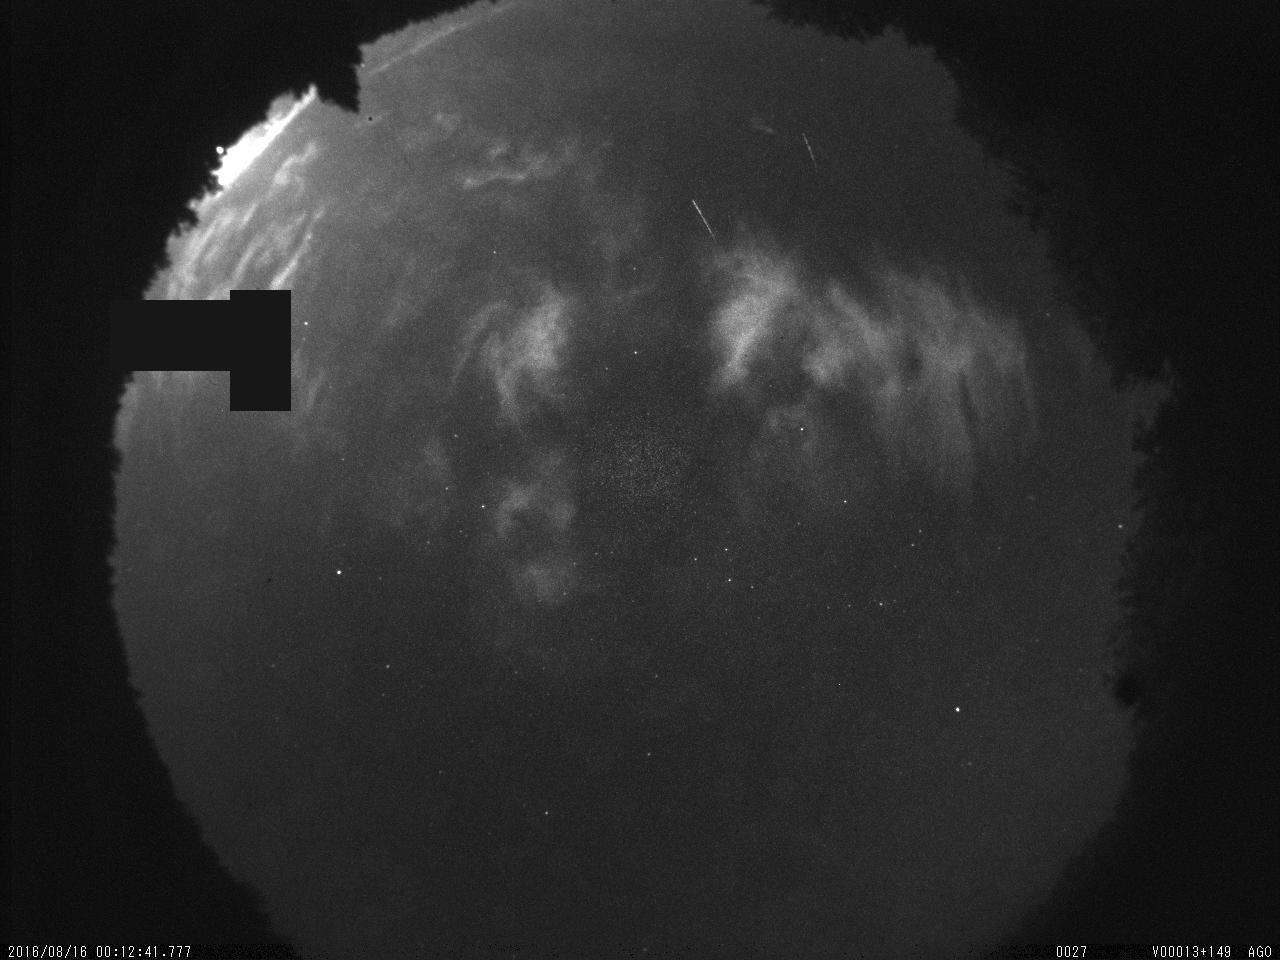Meteor: (688, 192, 720, 241), (797, 126, 822, 175)
